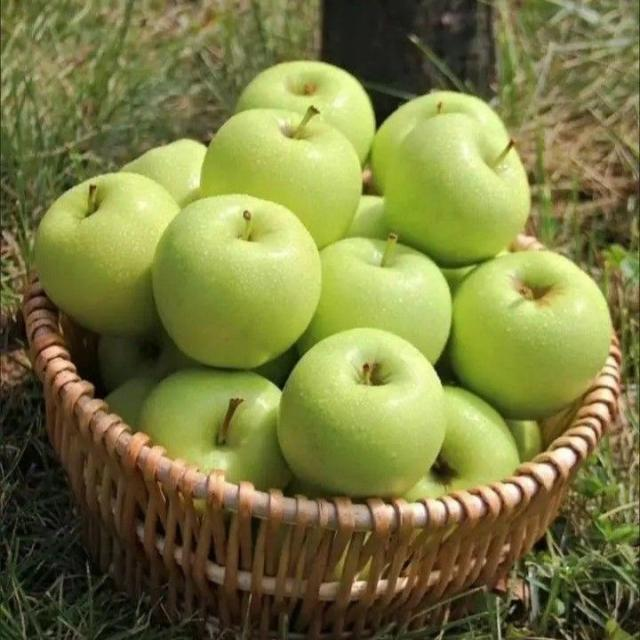apple: (152, 195, 320, 368), (278, 328, 445, 496), (451, 251, 611, 419), (35, 173, 179, 335), (201, 109, 361, 247), (385, 114, 530, 266), (298, 234, 451, 363), (139, 368, 290, 490), (237, 61, 375, 163), (371, 92, 508, 192), (404, 387, 519, 500), (97, 330, 195, 391), (122, 139, 206, 207), (105, 377, 157, 430), (346, 195, 391, 240), (255, 347, 299, 388), (507, 420, 543, 461), (441, 265, 478, 295), (441, 264, 478, 294), (441, 264, 477, 294), (284, 477, 329, 499)
